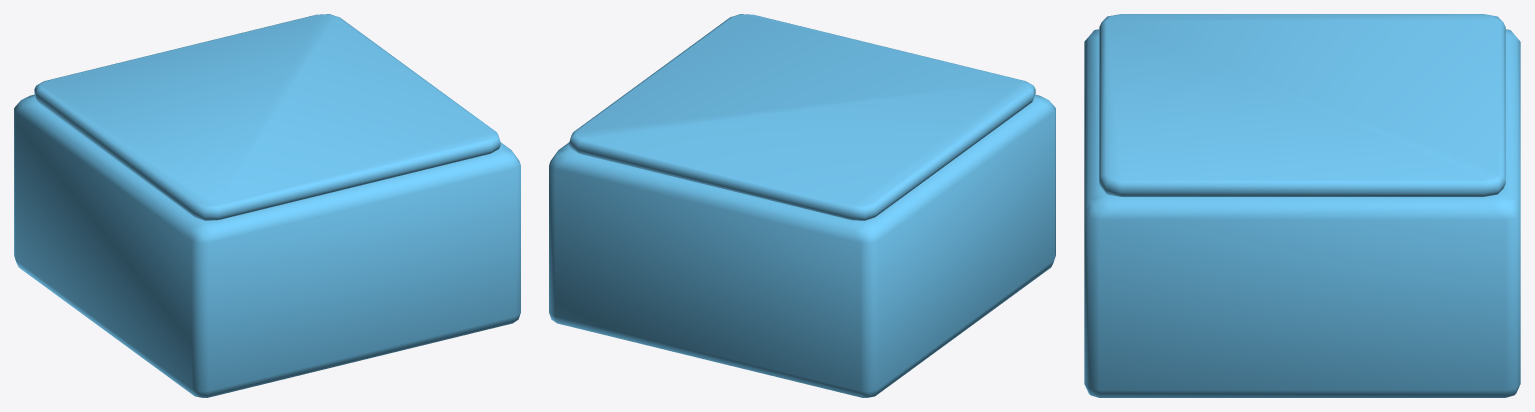
Rendered from Block-O-Blue.fbx.
3 views of the same model, side by side, from view 1: azimuth 30°, elevation 25°; view 2: azimuth 150°, elevation 25°; view 3: azimuth 270°, elevation 25° (orthographic). The views are drawn at different scales.
Visible parts, largest first — view 1: Block-O-Blue, Cube.037; view 2: Block-O-Blue, Cube.037; view 3: Block-O-Blue, Cube.037.
Boxes of the visible parts, left/top/right/bottom form: Block-O-Blue: left=14, top=94, right=520, bottom=397; Cube.037: left=34, top=14, right=500, bottom=220; Block-O-Blue: left=549, top=94, right=1055, bottom=397; Cube.037: left=569, top=14, right=1035, bottom=220; Block-O-Blue: left=1084, top=29, right=1520, bottom=397; Cube.037: left=1099, top=14, right=1505, bottom=196.
Size of the model in its own units: 100 by 54.24 by 100.
